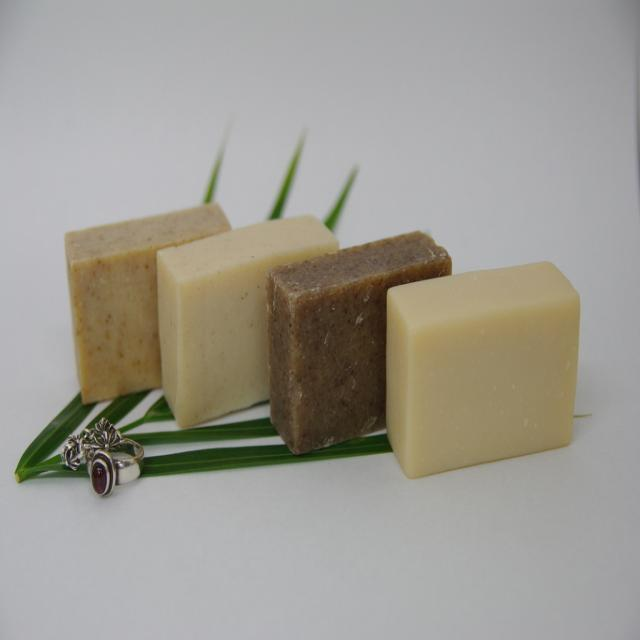Cheese: (384, 271, 575, 488)
